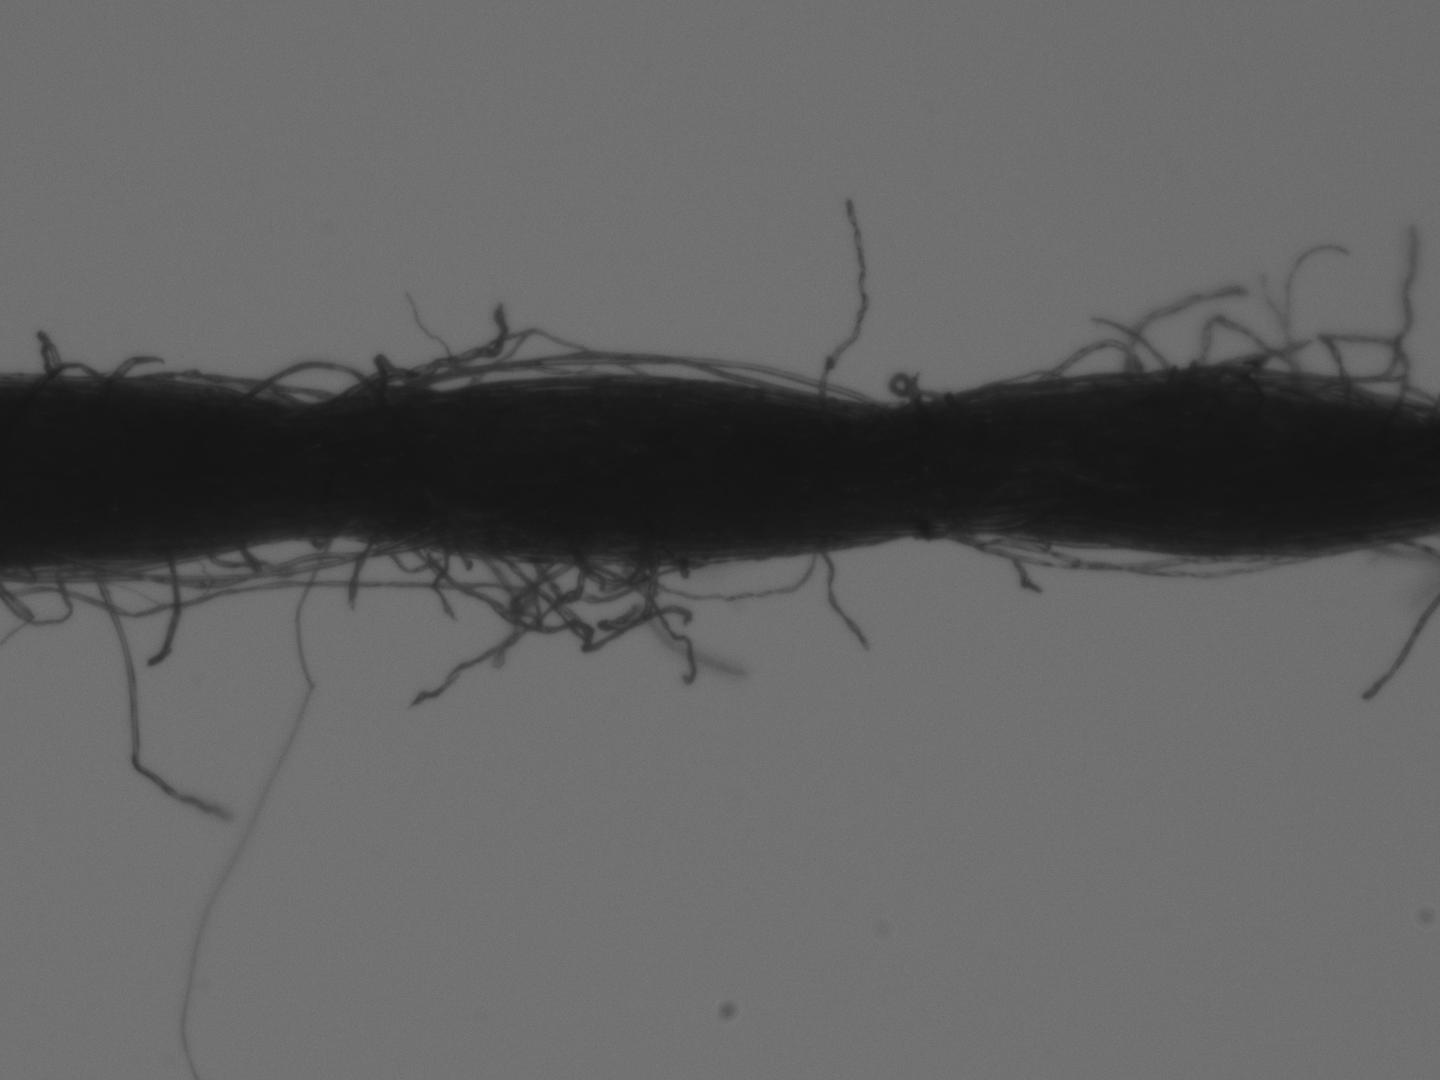loop_fiber: (399, 343, 812, 411), (923, 526, 1315, 587), (1244, 332, 1413, 412), (220, 354, 389, 419), (1178, 312, 1311, 391), (234, 528, 426, 582), (1025, 336, 1147, 395), (524, 532, 591, 605), (882, 360, 960, 417)
protruding_fiber: (822, 192, 873, 417)
